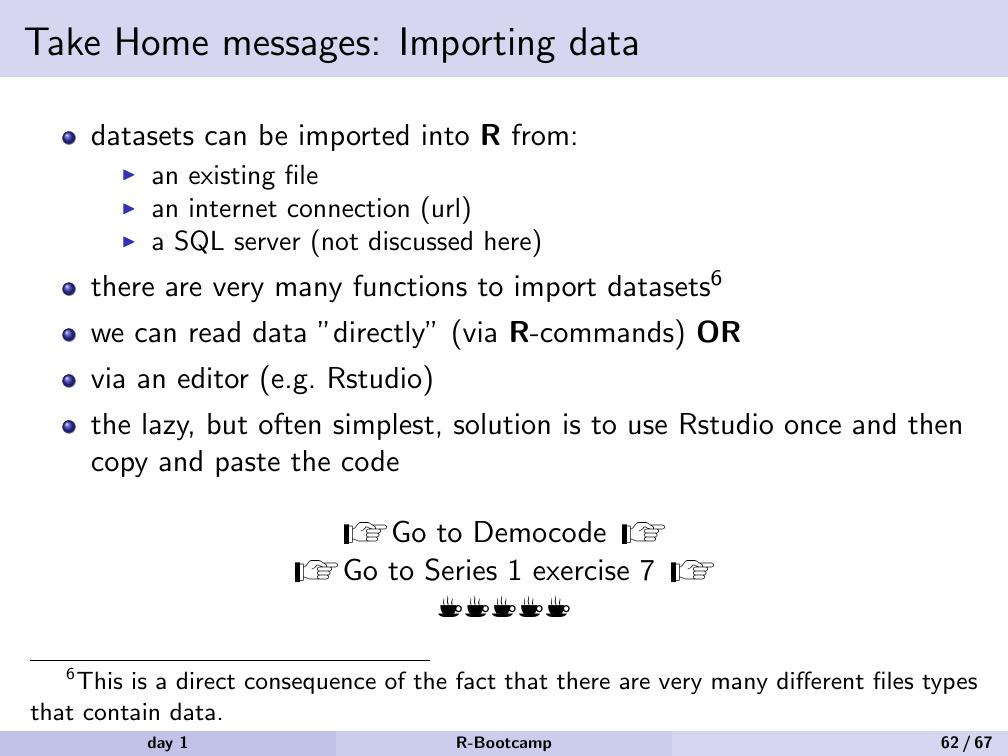Title: (7, 13, 647, 70)
